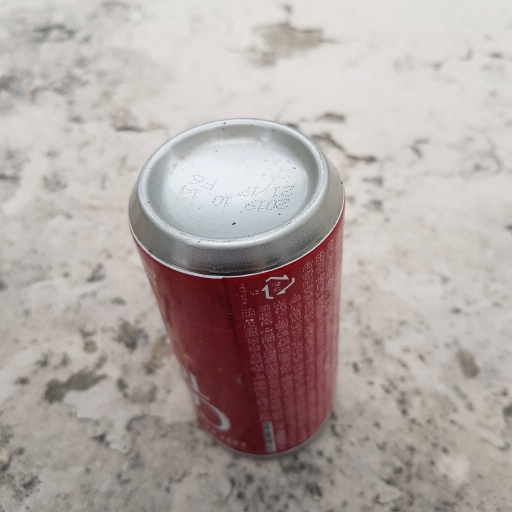Metal_0: (125, 117, 348, 455)
